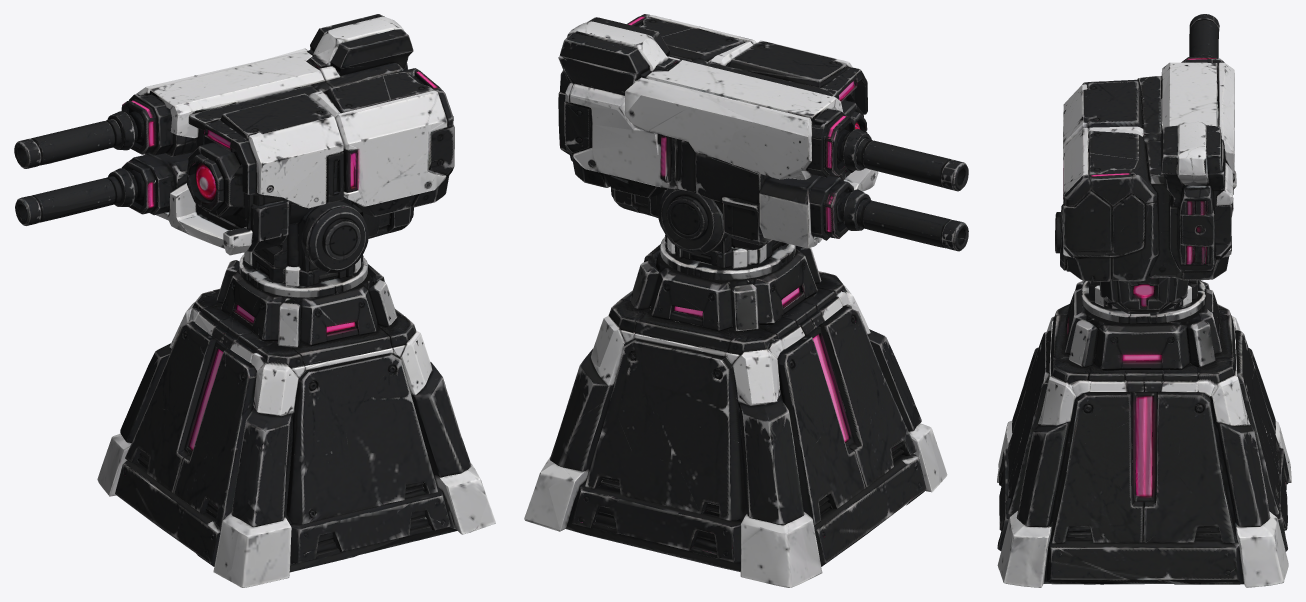
File: turret_meshy7.glb
The picture shows the model from 3 angles, left to right: view 1: azimuth 30°, elevation 25°; view 2: azimuth 150°, elevation 25°; view 3: azimuth 270°, elevation 25°; orthographic projection. The views are drawn at different scales.
Size of the model in its own units: 1.74 by 1.9 by 1.18.
Materials: 1 (1 with a texture image).
